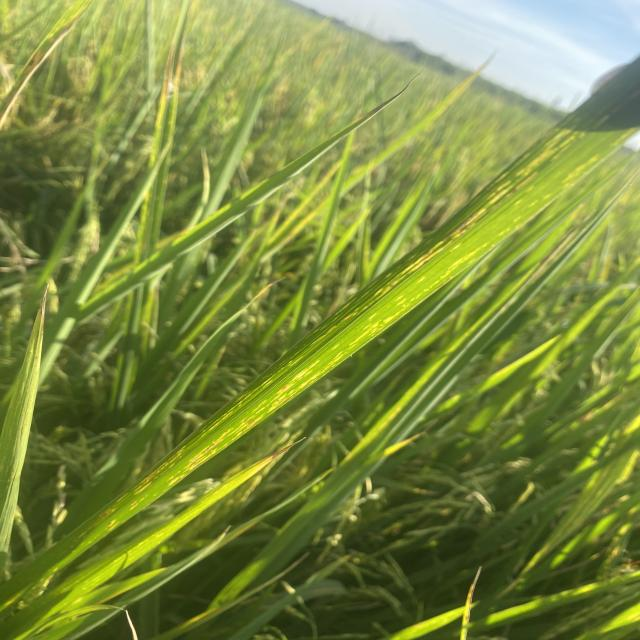Dom soc vi khuan: (183, 441, 220, 469), (231, 414, 265, 441), (289, 360, 320, 383), (189, 448, 218, 471), (271, 381, 297, 402), (272, 393, 288, 407)
